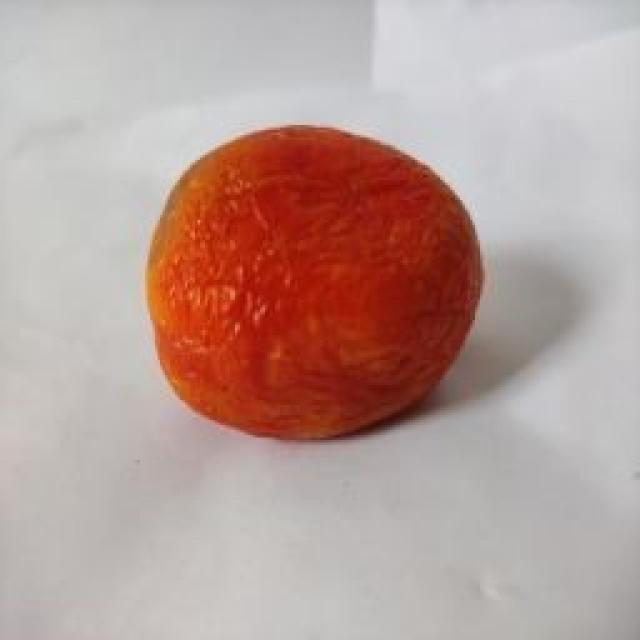overripe: (143, 123, 486, 441)
